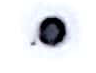cancer: (18, 1, 84, 59)
